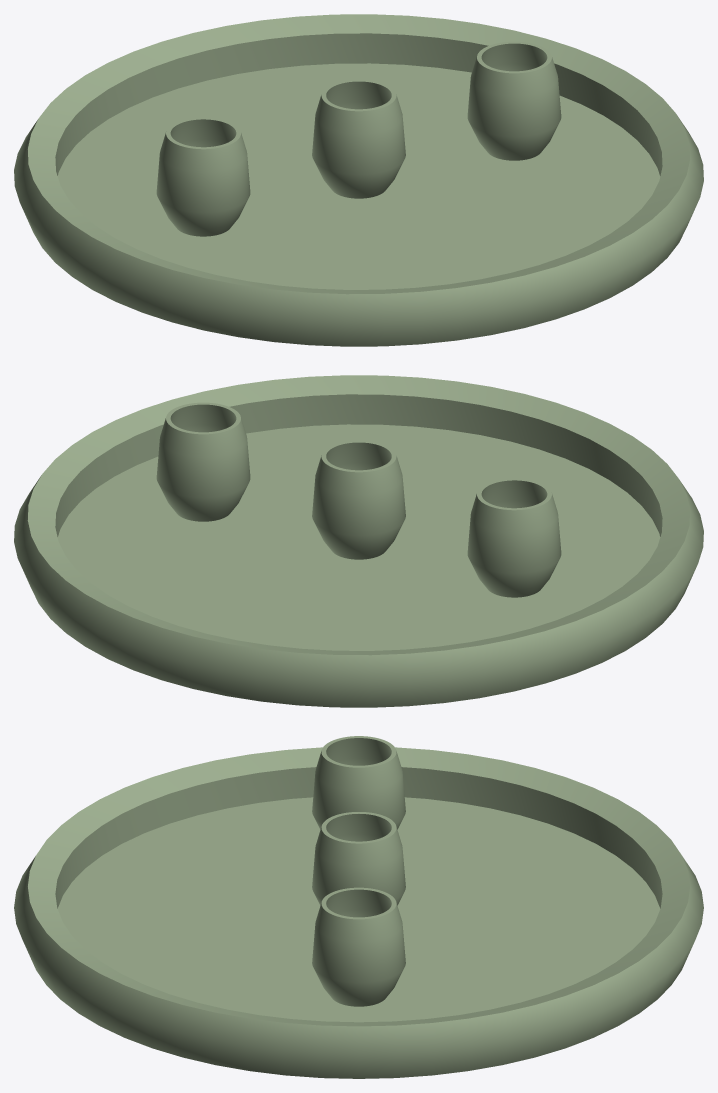
Rendered from desert-caravanserai-and-bazaar-tea-serving-tray-6438afbb__30481.glb.
The picture shows the model from 3 angles, top to bottom: view 1: azimuth 30°, elevation 25°; view 2: azimuth 150°, elevation 25°; view 3: azimuth 270°, elevation 25°; orthographic projection.
Visible parts, largest first — view 1: tea-serving-tray; view 2: tea-serving-tray; view 3: tea-serving-tray.
Boxes of the visible parts, <box> form: tea-serving-tray: <box>14,14,703,346</box>; tea-serving-tray: <box>14,375,703,707</box>; tea-serving-tray: <box>14,736,703,1078</box>.
Size of the model in its own units: 0.5 by 0.089 by 0.5.
